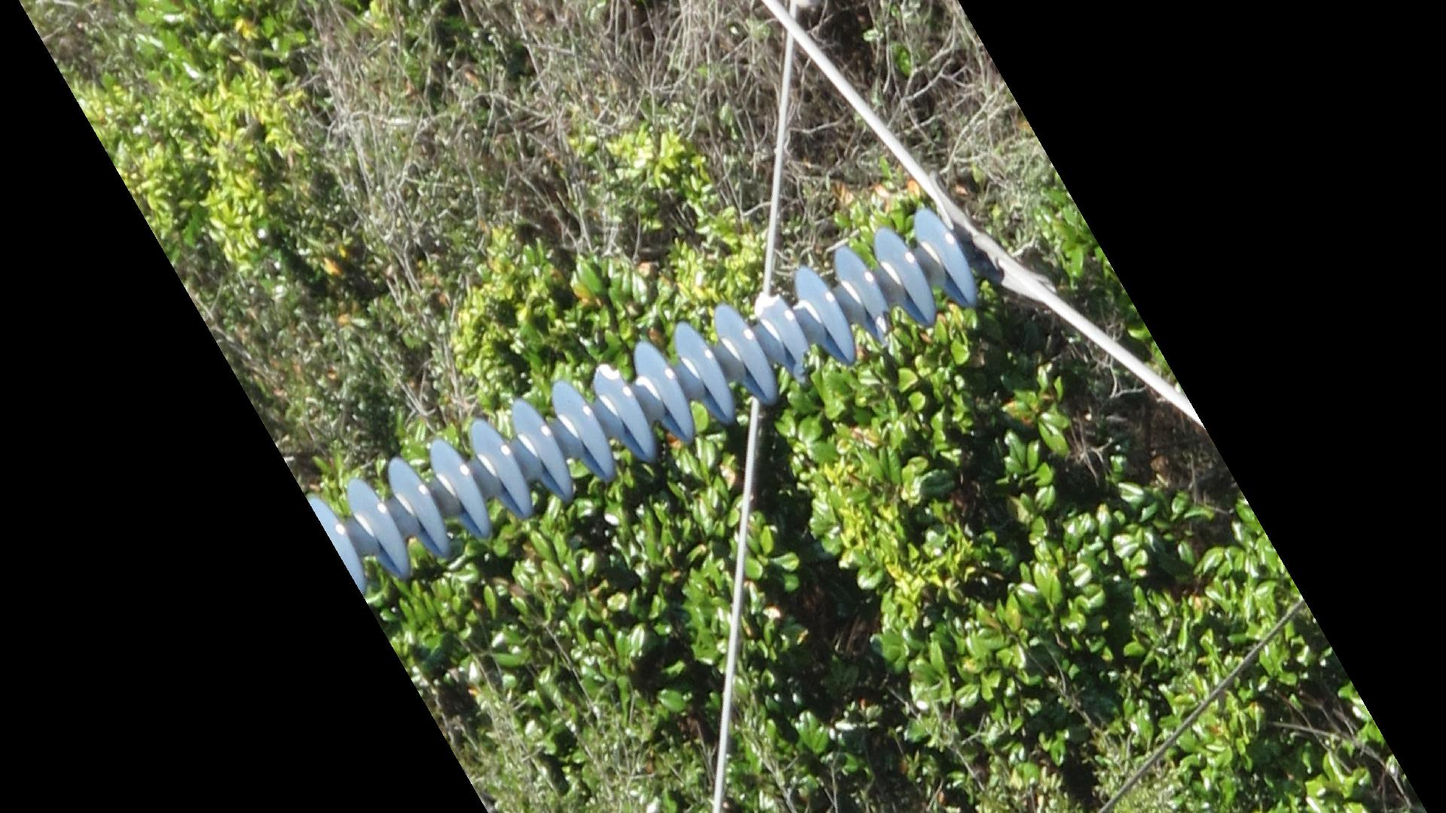insulator: (307, 203, 984, 583)
insulator_breakage: (745, 286, 789, 327), (587, 361, 629, 396), (787, 343, 816, 389)
